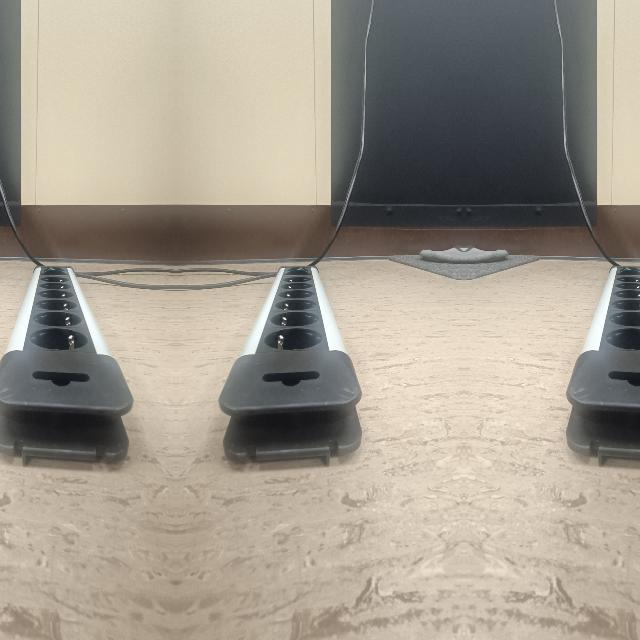obstacle: (221, 265, 363, 465), (0, 265, 129, 465), (564, 265, 640, 465)
